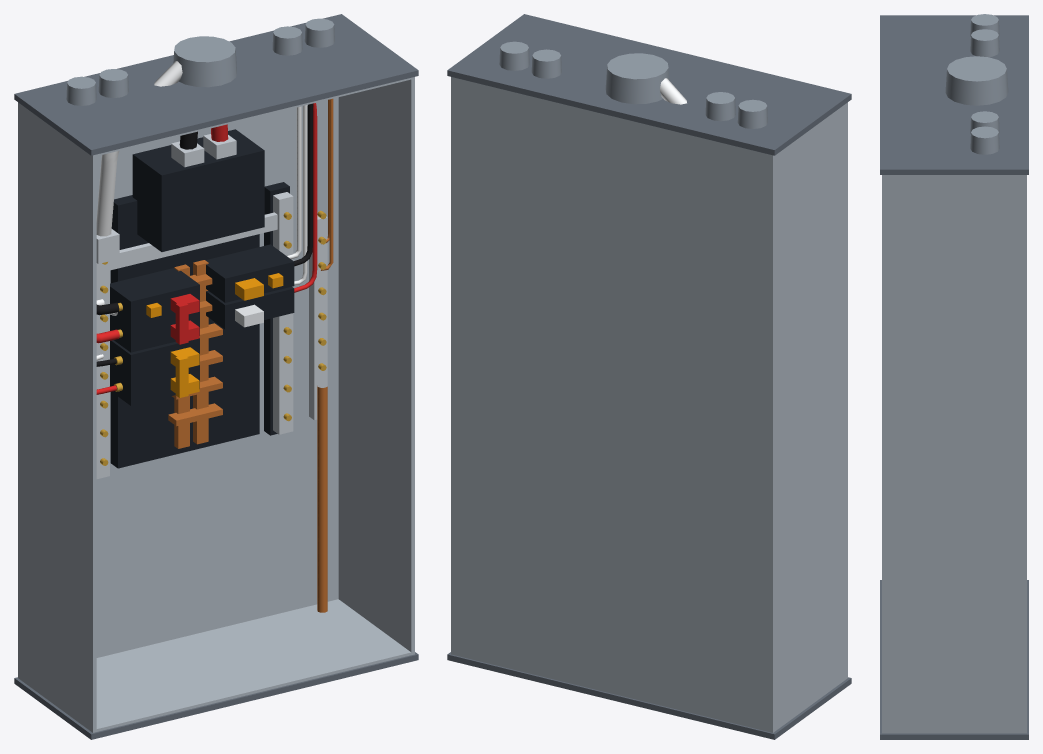
3 renders of one model, left to right at view 1: azimuth 30°, elevation 25°; view 2: azimuth 150°, elevation 25°; view 3: azimuth 270°, elevation 25°, orthographic. The views are drawn at different scales.
Parts seen in each view (by area): view 1: panel-interior-demo_sub_100a; view 2: panel-interior-demo_sub_100a; view 3: panel-interior-demo_sub_100a.
Boxes of the visible parts, x1,y1,x2,y2 form: panel-interior-demo_sub_100a: [14, 14, 418, 739]; panel-interior-demo_sub_100a: [447, 14, 851, 739]; panel-interior-demo_sub_100a: [880, 14, 1028, 739].
Bounding box in the file's own units: 0.366 × 0.661 × 0.149.
